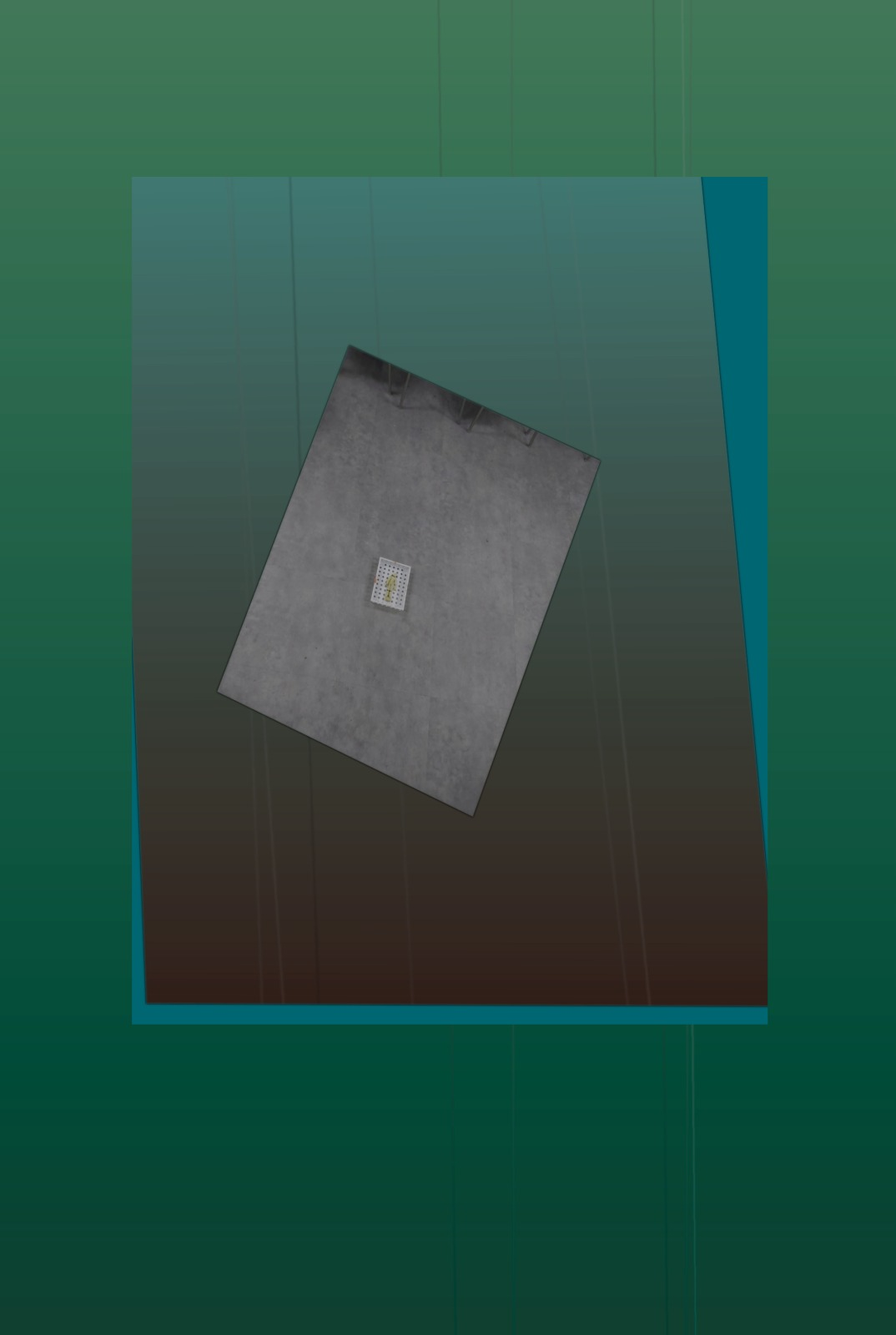basket: (370, 556, 412, 613)
mannequin: (384, 573, 397, 603)
